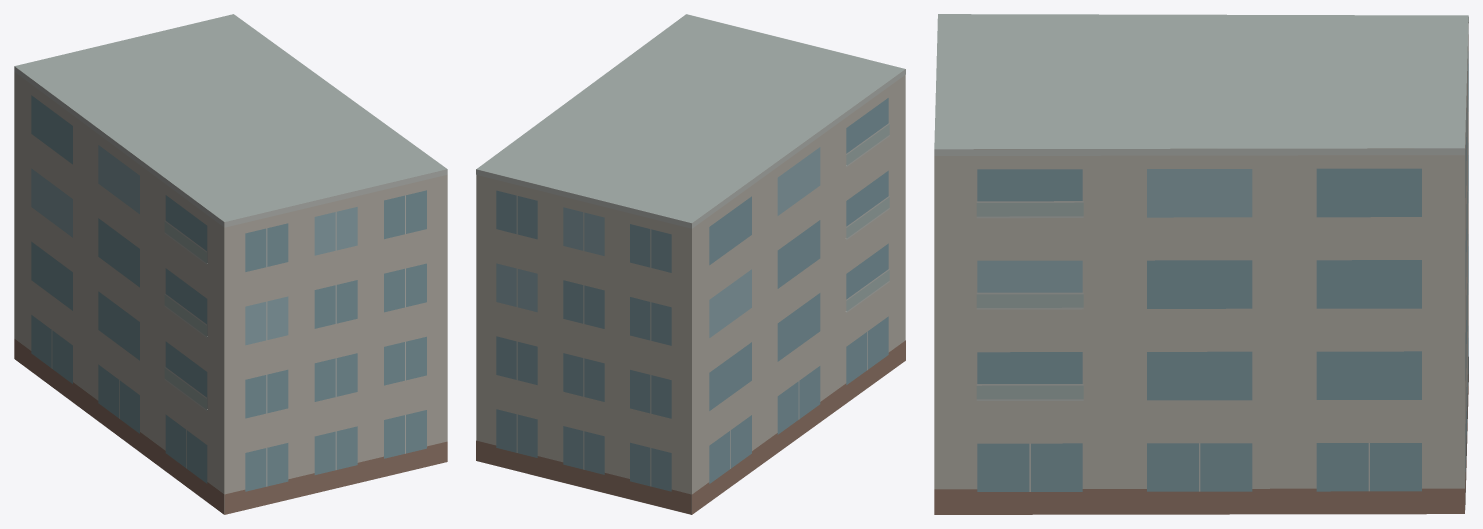
Rendered from survey-upis-32739590.glb.
The picture shows the model from 3 angles, left to right: view 1: azimuth 30°, elevation 25°; view 2: azimuth 150°, elevation 25°; view 3: azimuth 270°, elevation 25°; orthographic projection. The views are drawn at different scales.
Parts seen in each view (by area): view 1: survey-upis-32739590.tmp; view 2: survey-upis-32739590.tmp; view 3: survey-upis-32739590.tmp.
Boxes of the visible parts, x1,y1,x2,y2 form: survey-upis-32739590.tmp: [14, 14, 447, 514]; survey-upis-32739590.tmp: [476, 14, 905, 514]; survey-upis-32739590.tmp: [934, 14, 1468, 514].
Size of the model in its own units: 10.29 by 12.9 by 17.1.
